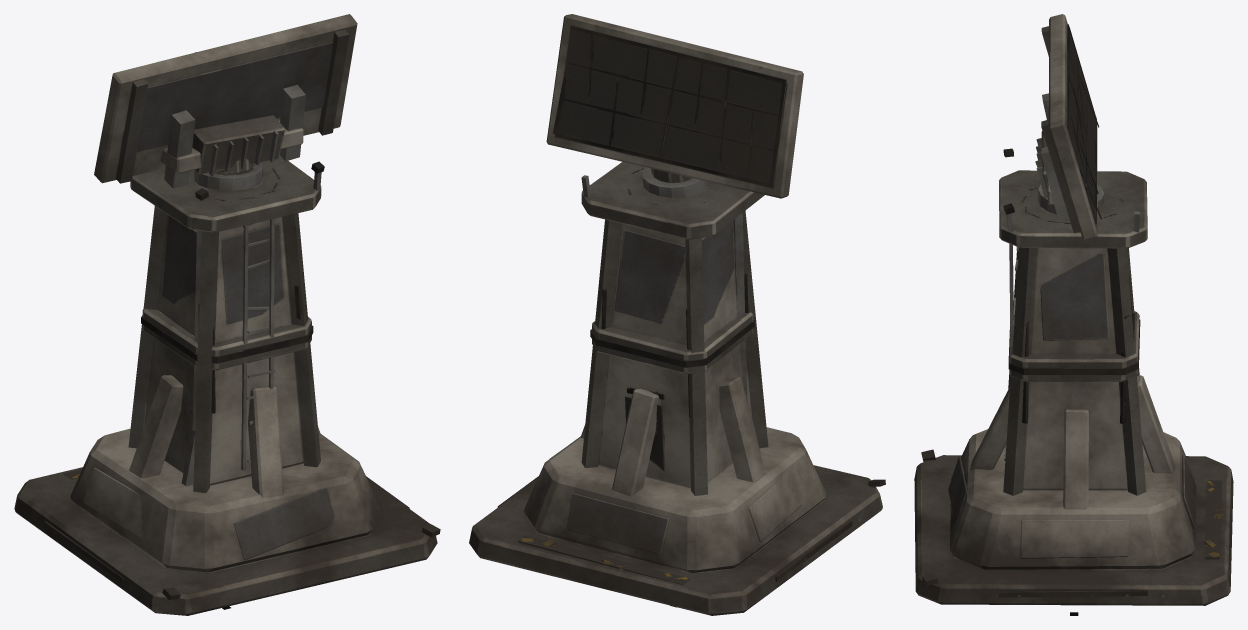
The model's file is ord_watchtower_wreck.fbx.
3 views of the same model, side by side, from view 1: azimuth 30°, elevation 25°; view 2: azimuth 150°, elevation 25°; view 3: azimuth 270°, elevation 25° (orthographic). The views are drawn at different scales.
Parts seen in each view (by area): view 1: base_bar, radar_bar; view 2: base_bar, radar_bar; view 3: base_bar, radar_bar.
Part boxes in pixels (left/top/right/bottom): base_bar: left=14, top=155, right=440, bottom=615; radar_bar: left=94, top=14, right=357, bottom=188; base_bar: left=469, top=162, right=885, bottom=615; radar_bar: left=546, top=14, right=803, bottom=198; base_bar: left=914, top=148, right=1233, bottom=605; radar_bar: left=1035, top=14, right=1101, bottom=240.
Bounding box in the file's own units: 770 × 1457 × 770.
2 materials, 2 textured.
